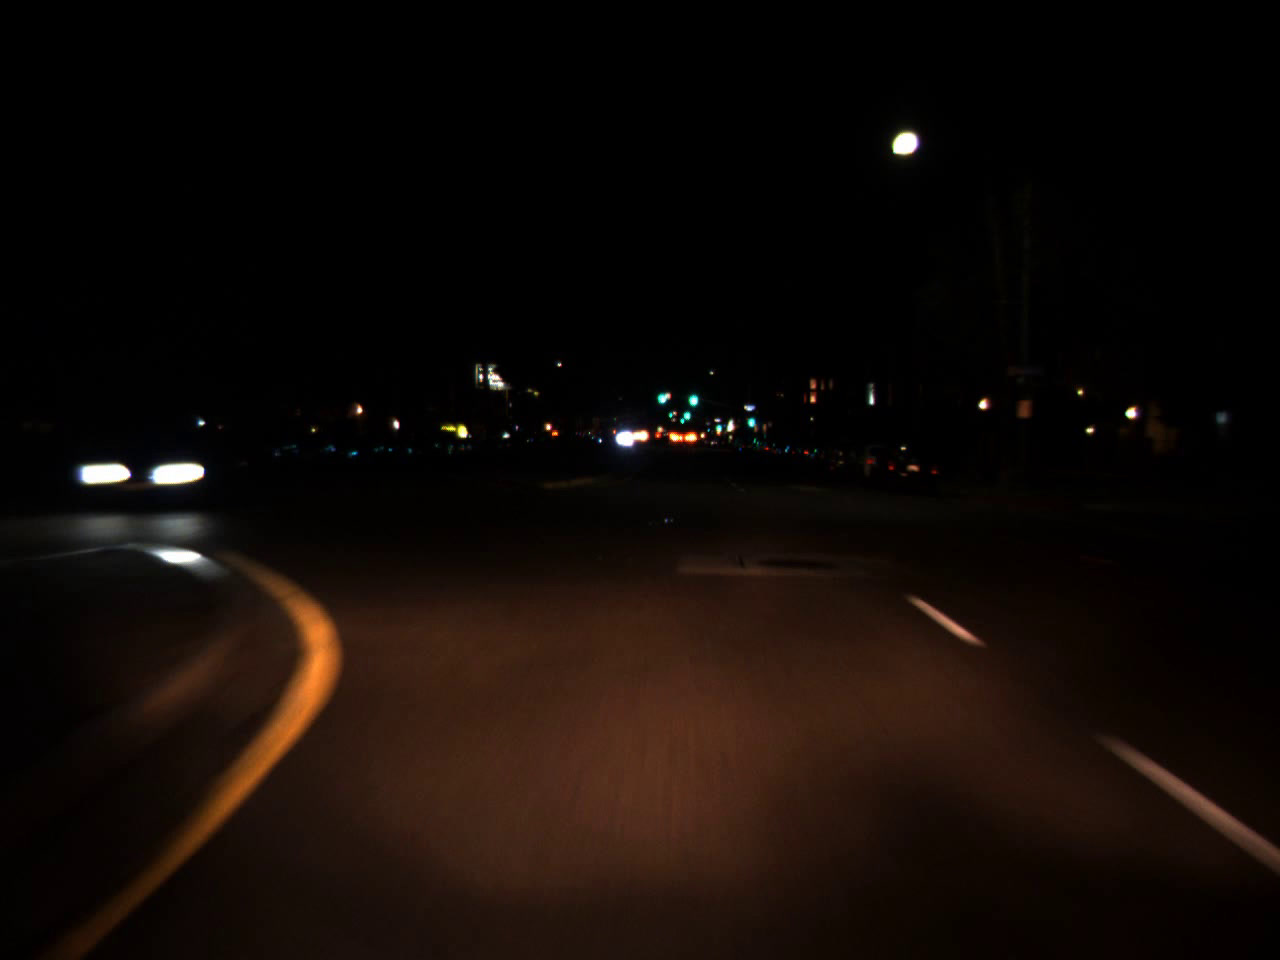go: (686, 381, 700, 411), (654, 382, 668, 406), (746, 408, 755, 429), (682, 406, 691, 421), (715, 419, 722, 432)
